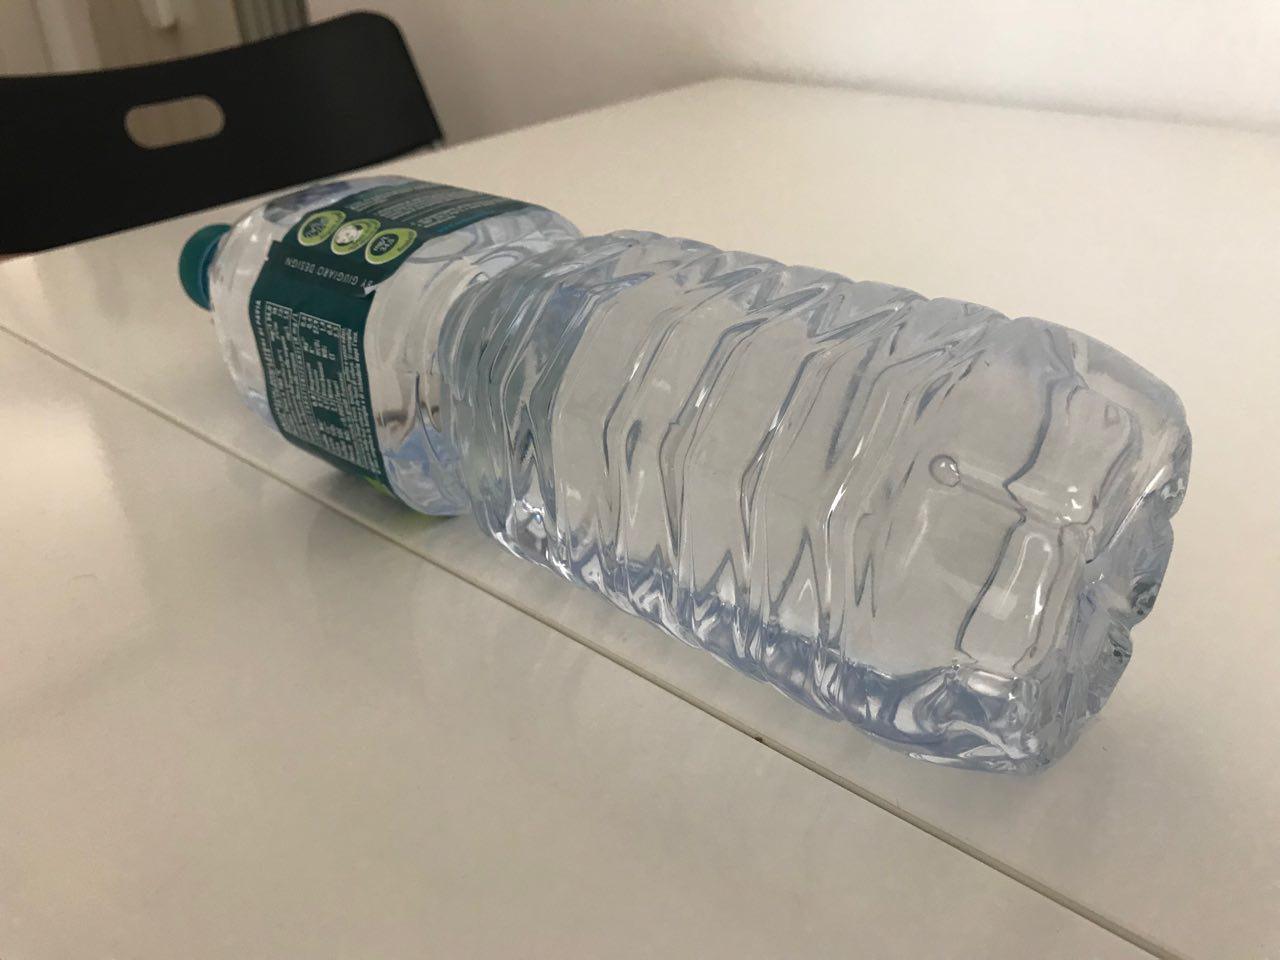san_bernardo: (176, 171, 1195, 779)
